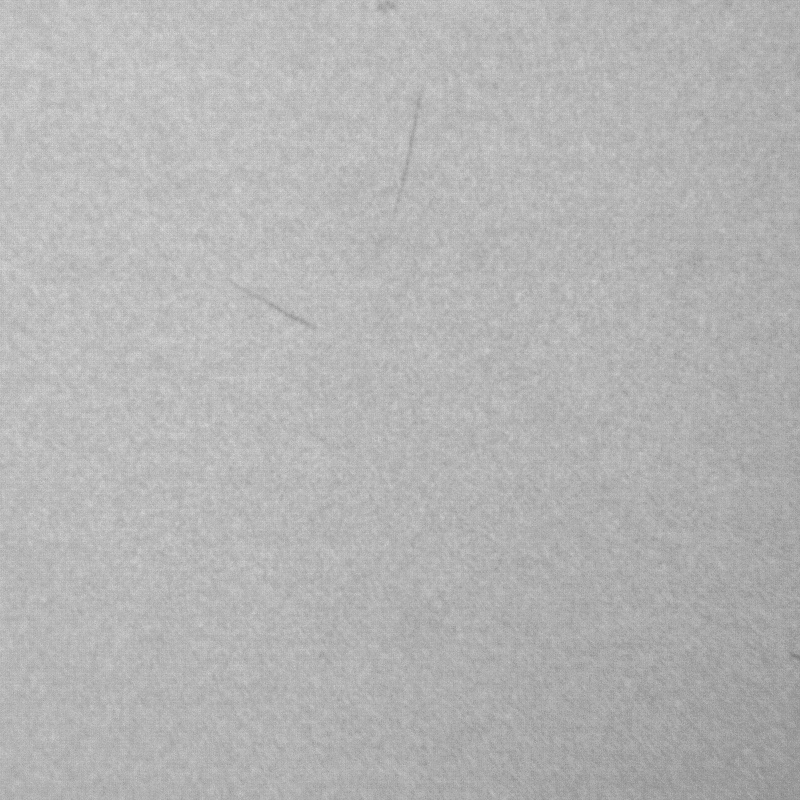defect: (230, 282, 320, 332), (389, 95, 423, 224), (381, 1, 407, 13)
